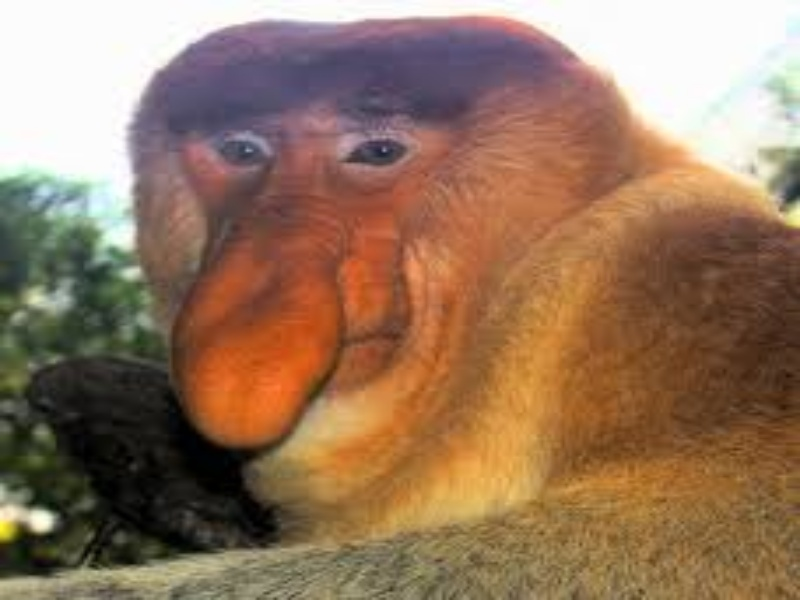monkey: (86, 20, 800, 598)
